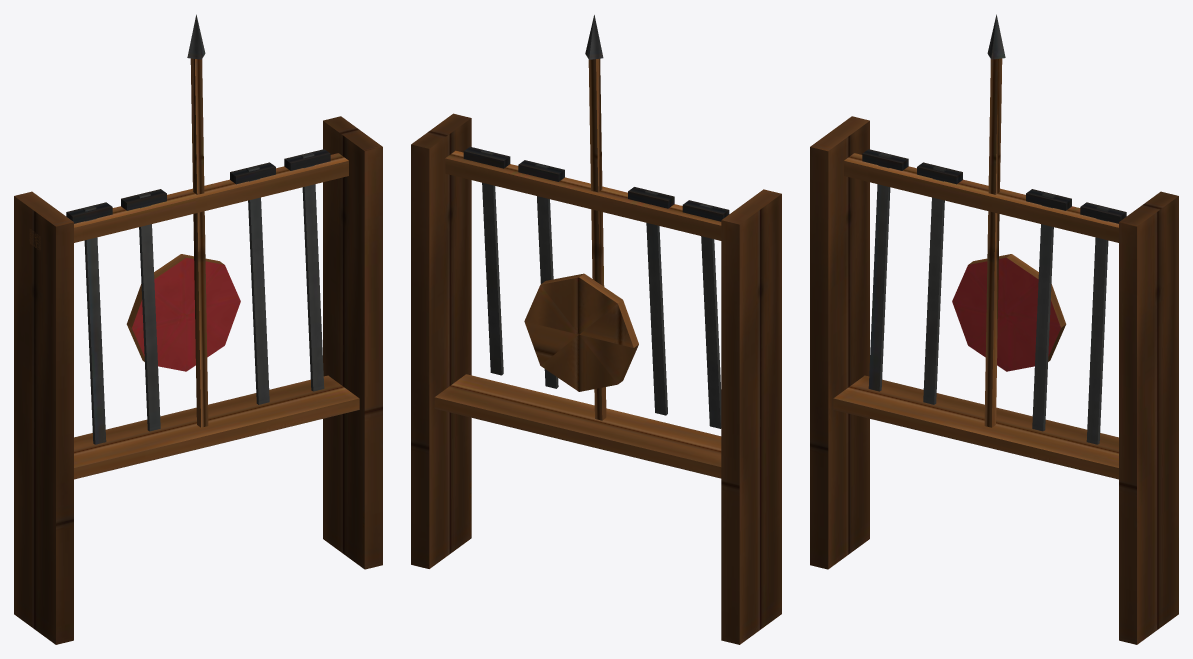
The model's file is weapon_rack.glb.
3 views of the same model, side by side, from view 1: azimuth 30°, elevation 25°; view 2: azimuth 150°, elevation 25°; view 3: azimuth 330°, elevation 25° (orthographic).
Parts seen in each view (by area): view 1: props_0_0; view 2: props_0_0; view 3: props_0_0.
Part boxes in pixels (box(x1,y1,x2,y2)): props_0_0: box(14, 14, 382, 644); props_0_0: box(411, 15, 781, 644); props_0_0: box(810, 14, 1178, 644).
Bounding box in the file's own units: 1.8 × 3.02 × 0.4.
Materials: 2 (2 with a texture image).
